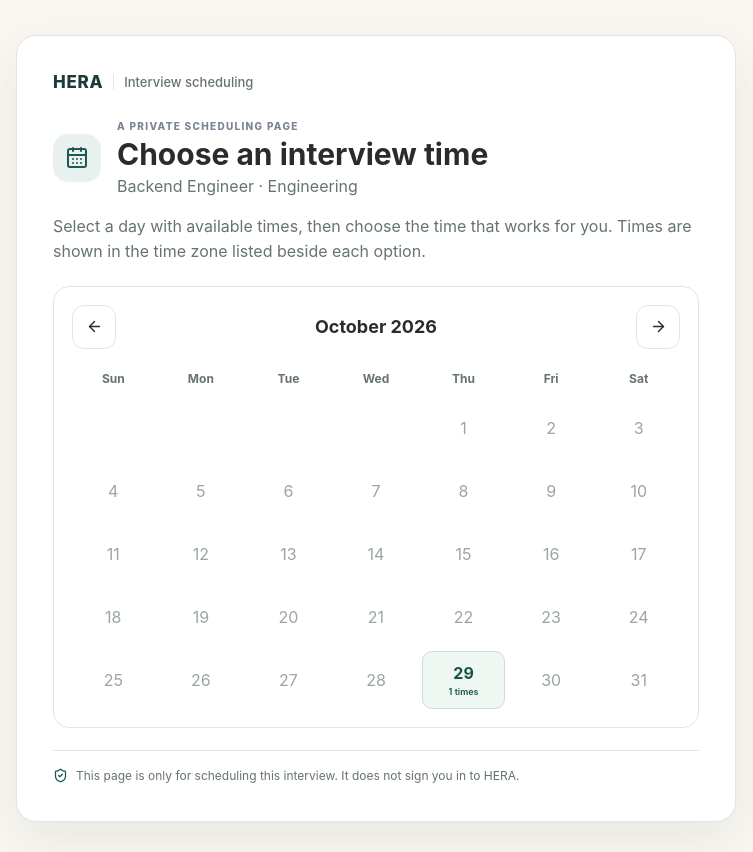
Scenario: CandidateInterviewPortal › books only the selected published slot and then locks the invitation
The width and height of the screenshot is (753, 852).
Click the button "29 1 times".
click(464, 680)  # box [422, 651, 505, 709]
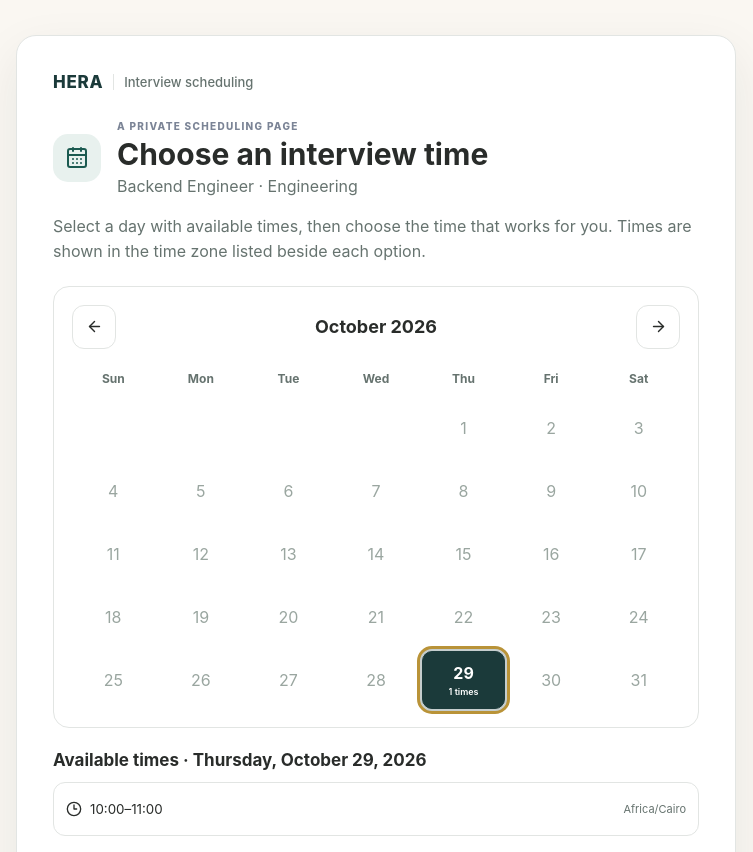
Click the button "10:00–11:00 Africa/Cairo".
click(107, 809)  # box [53, 782, 699, 836]
(page scrolled)
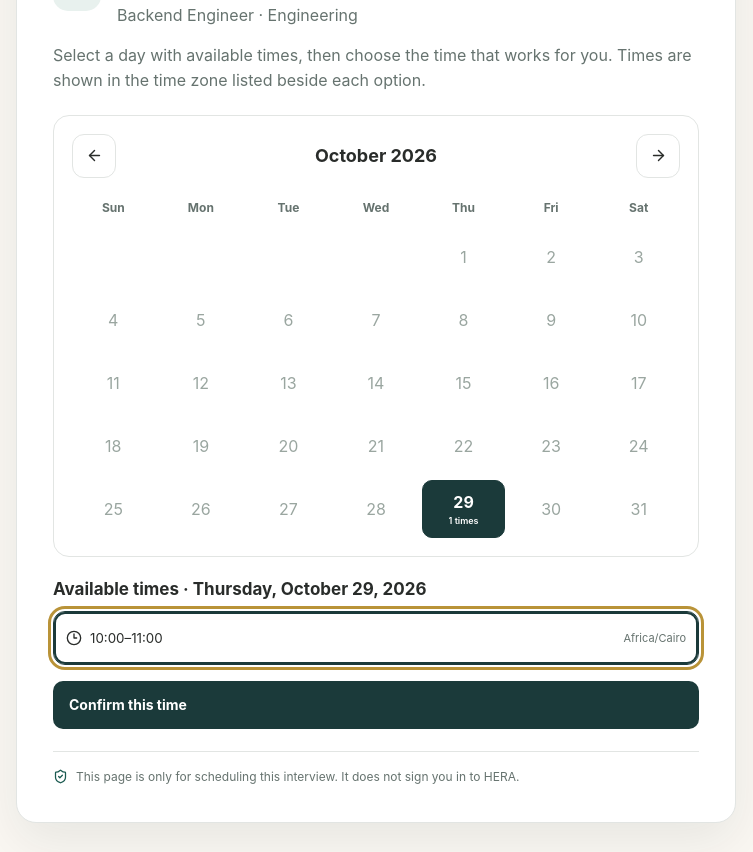
Click the button "Confirm this time".
click(128, 705)  # box [53, 681, 699, 729]
(page scrolled)
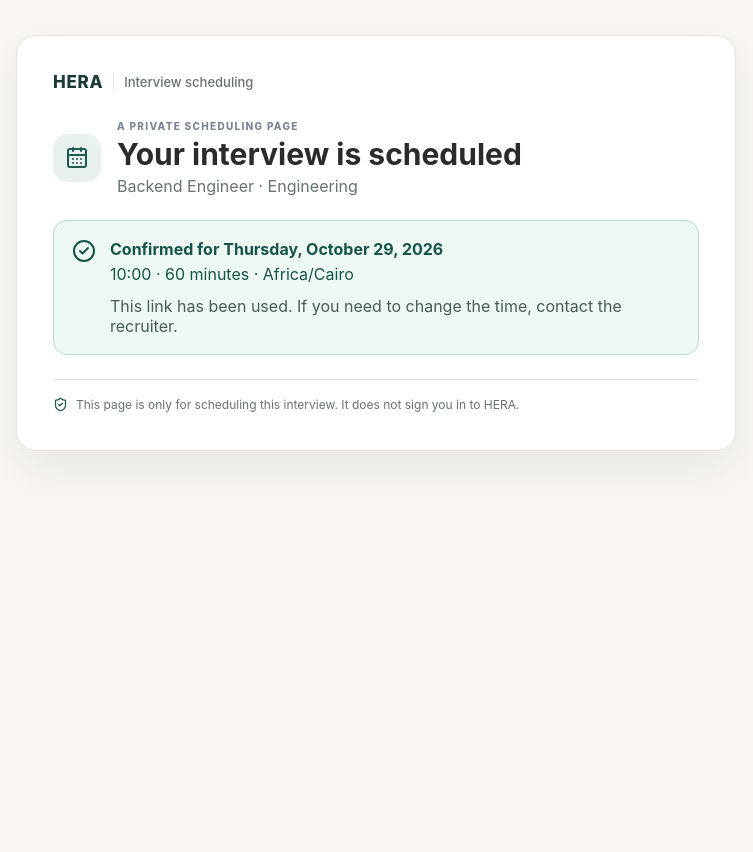
Expected: the heading "Your interview is scheduled" is shown, [117, 136, 522, 172]
Expected: the text "contact the recruiter" is shown, [110, 296, 622, 336]
